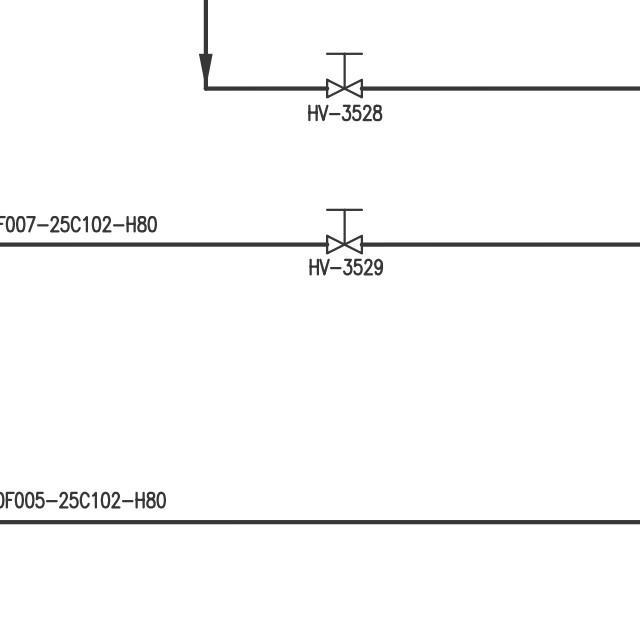HVWT: (321, 48, 367, 104), (320, 202, 367, 256)
